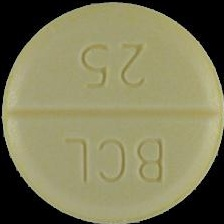0832-0512: (0, 0, 224, 224)
